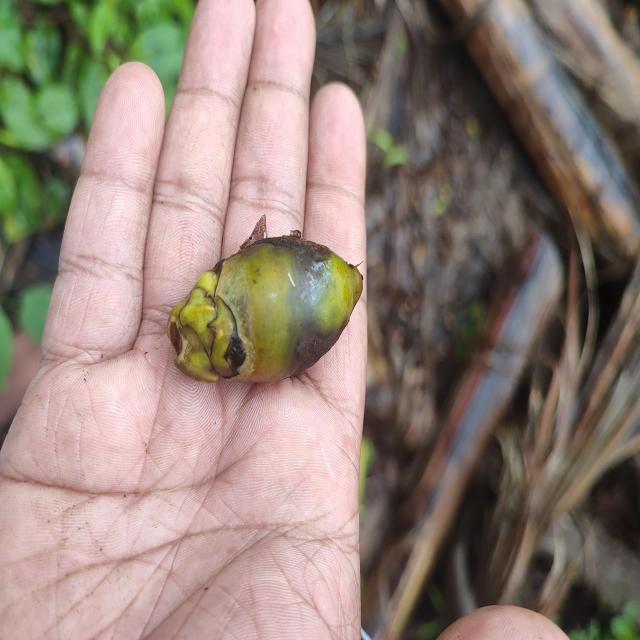damaged: (164, 233, 365, 388)
